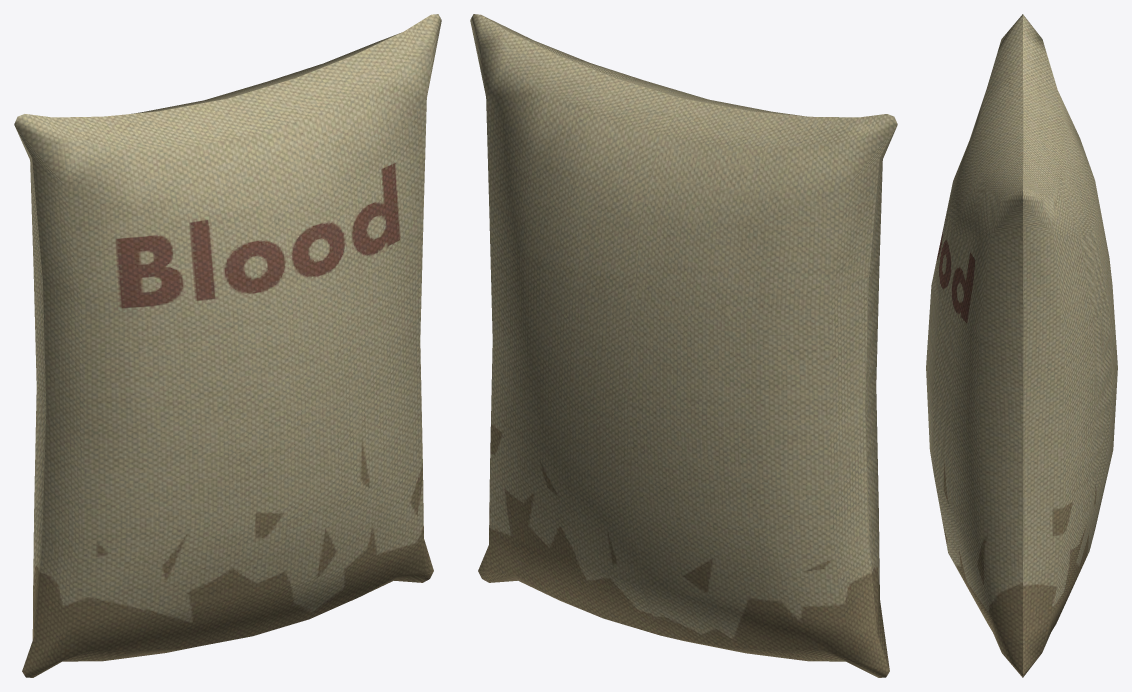
The model's file is blood sack.glb.
3 views of the same model, side by side, from view 1: azimuth 30°, elevation 25°; view 2: azimuth 150°, elevation 25°; view 3: azimuth 270°, elevation 25° (orthographic). The views are drawn at different scales.
Visible parts, largest first — view 1: Quest_Pirate_FlourSack; view 2: Quest_Pirate_FlourSack; view 3: Quest_Pirate_FlourSack.
Part boxes in pixels (x1,y1,x2,y2): Quest_Pirate_FlourSack: [14, 14, 441, 677]; Quest_Pirate_FlourSack: [470, 14, 897, 677]; Quest_Pirate_FlourSack: [926, 14, 1117, 677].
Bounding box in the file's own units: 0.8583 × 1.11 × 0.384.
Materials: 1 (1 with a texture image).
